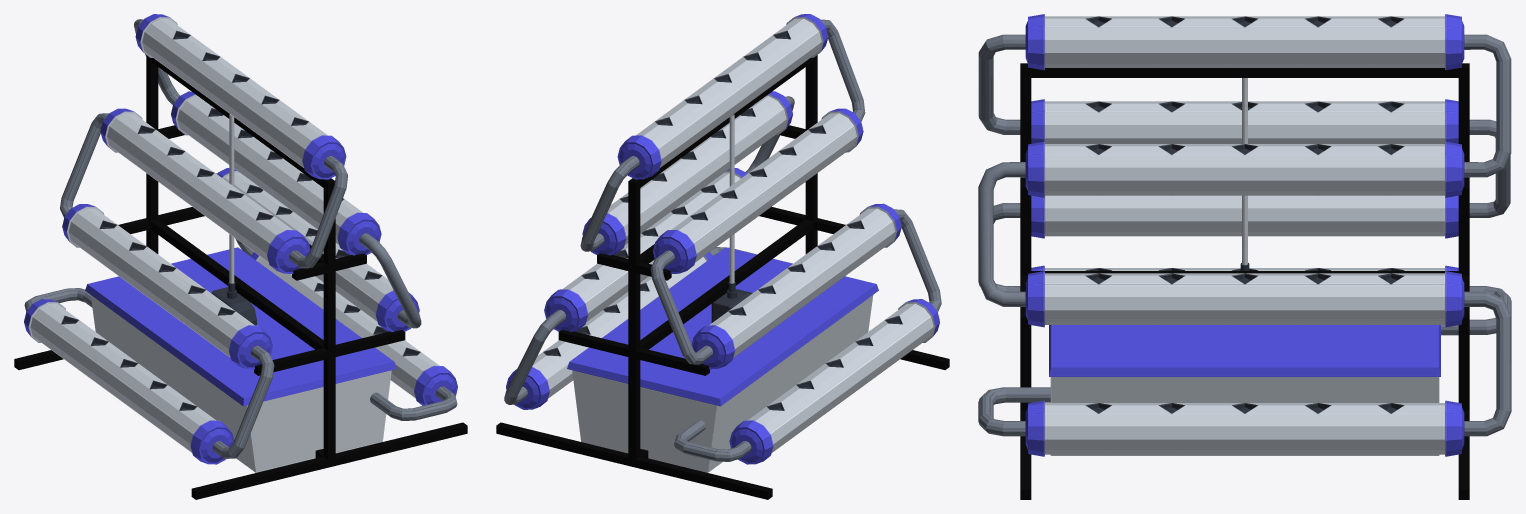
Rendered from low_poly_hydroponic_system.glb.
The picture shows the model from 3 angles, left to right: view 1: azimuth 30°, elevation 25°; view 2: azimuth 150°, elevation 25°; view 3: azimuth 270°, elevation 25°; orthographic projection. The views are drawn at different scales.
Parts seen in each view (by area): view 1: p_tubeBig.009, p_reservoir, p_frame, p_tubeSmall.007, p_waterPump; view 2: p_tubeBig.009, p_reservoir, p_frame, p_tubeSmall.007, p_waterPump; view 3: p_tubeBig.009, p_reservoir, p_tubeSmall.007, p_frame, p_waterPump.
Boxes of the visible parts, x1=… form: p_tubeBig.009: x1=24, y1=14, x2=457, y2=464; p_reservoir: x1=85, y1=247, x2=396, y2=472; p_frame: x1=14, y1=55, x2=467, y2=499; p_tubeSmall.007: x1=24, y1=19, x2=457, y2=458; p_waterPump: x1=211, y1=114, x2=256, y2=325; p_tubeBig.009: x1=506, y1=14, x2=939, y2=464; p_reservoir: x1=567, y1=247, x2=878, y2=472; p_frame: x1=496, y1=55, x2=949, y2=499; p_tubeSmall.007: x1=504, y1=19, x2=941, y2=461; p_waterPump: x1=711, y1=114, x2=752, y2=322; p_tubeBig.009: x1=1025, y1=14, x2=1464, y2=456; p_reservoir: x1=1049, y1=325, x2=1440, y2=455; p_tubeSmall.007: x1=978, y1=34, x2=1511, y2=436; p_frame: x1=1020, y1=63, x2=1469, y2=499; p_waterPump: x1=1240, y1=78, x2=1249, y2=270.
Size of the model in its own units: 3 by 3.42 by 4.12.
Materials: 5 (5 with a texture image).
